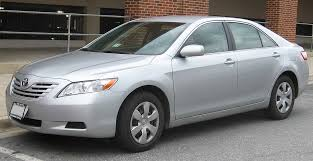Toyota: (10, 18, 296, 130)
